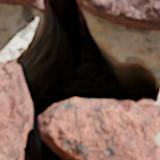broken_brick: (49, 99, 159, 159), (0, 61, 27, 159), (84, 0, 159, 30), (0, 0, 43, 11)
crack: (1, 0, 159, 159)
